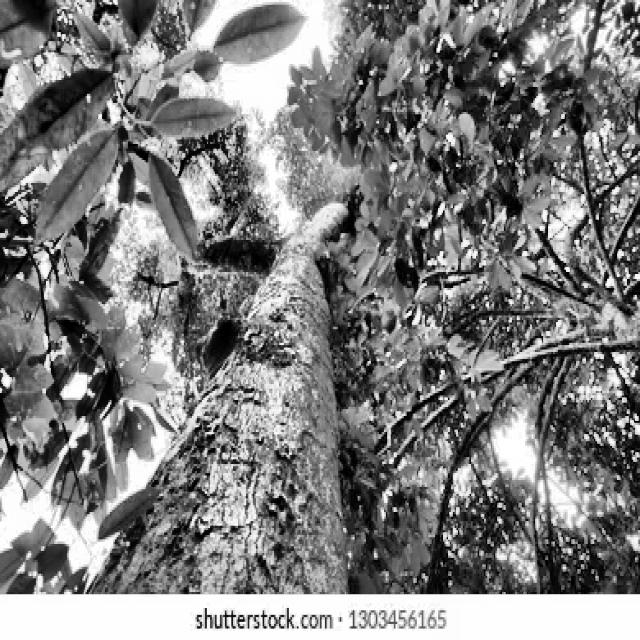arvore: (77, 158, 366, 593)
